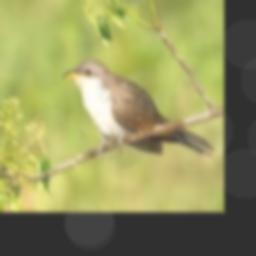Cuckoo: (62, 59, 216, 153)
